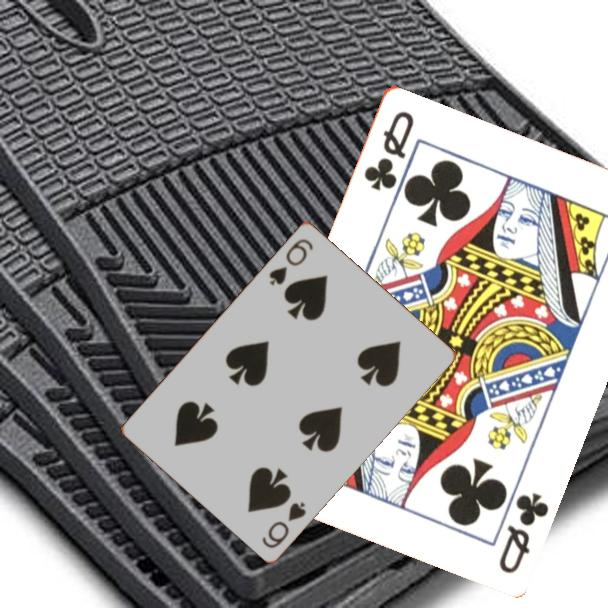c12: (495, 488, 552, 576), (360, 107, 417, 193)
s06: (265, 234, 316, 288), (258, 498, 309, 551)
